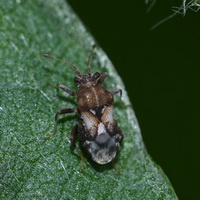insect: (43, 45, 122, 164)
